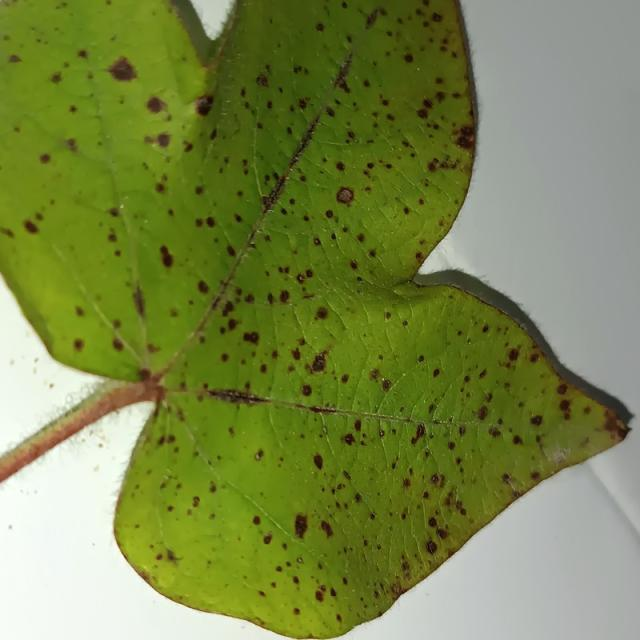Bacterial_Blight: (207, 387, 278, 406), (151, 240, 184, 269), (107, 56, 137, 83), (602, 411, 627, 439), (427, 153, 459, 174), (261, 186, 284, 213), (154, 568, 177, 589), (455, 127, 475, 151), (132, 287, 146, 316), (146, 96, 167, 115), (195, 95, 213, 115), (310, 353, 327, 373), (294, 514, 308, 538), (365, 8, 380, 29), (336, 188, 354, 204), (137, 367, 153, 383), (335, 76, 350, 93), (242, 331, 259, 345), (320, 520, 333, 538), (414, 423, 426, 441), (23, 220, 38, 234), (157, 133, 171, 148), (165, 548, 180, 562), (476, 405, 489, 421), (222, 300, 234, 317), (430, 473, 444, 487), (315, 306, 329, 319), (529, 414, 543, 427), (459, 125, 474, 137), (313, 454, 323, 471), (256, 74, 269, 87), (64, 138, 77, 151), (197, 280, 209, 294), (427, 158, 439, 172), (391, 583, 403, 597), (29, 444, 40, 459), (343, 433, 355, 446), (556, 383, 568, 396), (558, 399, 571, 411), (112, 337, 124, 350), (488, 426, 501, 438), (73, 338, 84, 352), (227, 317, 238, 331), (426, 540, 437, 554), (50, 72, 62, 84), (436, 528, 448, 540), (301, 384, 312, 397), (508, 348, 519, 361), (279, 290, 290, 303), (39, 153, 51, 164), (381, 379, 392, 391), (108, 207, 120, 218), (422, 98, 434, 109), (1, 227, 13, 238), (291, 348, 301, 361), (417, 108, 428, 119), (205, 216, 215, 228), (263, 533, 273, 545), (369, 369, 379, 381), (183, 141, 193, 153), (8, 54, 21, 63), (107, 232, 117, 243), (155, 182, 165, 193), (512, 435, 523, 445), (226, 245, 236, 256), (298, 98, 308, 109), (325, 106, 335, 117), (431, 12, 442, 22), (77, 49, 88, 59), (530, 471, 541, 481), (580, 437, 590, 448), (315, 590, 324, 602), (353, 419, 362, 431), (335, 161, 345, 171), (404, 53, 414, 63), (255, 449, 264, 460), (75, 306, 84, 317), (341, 373, 350, 384), (195, 185, 204, 196), (428, 517, 437, 528), (234, 213, 243, 224), (349, 260, 358, 270), (356, 233, 365, 243), (220, 352, 229, 362), (315, 22, 324, 32), (69, 104, 78, 114), (342, 470, 351, 480), (502, 473, 511, 483), (296, 273, 305, 283), (192, 496, 200, 507), (459, 425, 466, 437), (325, 210, 334, 219), (253, 515, 261, 525), (448, 441, 456, 451), (403, 478, 411, 488), (417, 354, 425, 363), (482, 324, 490, 333), (354, 493, 362, 502), (313, 237, 321, 246), (330, 587, 337, 597), (292, 575, 299, 585), (248, 240, 256, 248), (433, 368, 440, 377), (385, 311, 392, 320), (403, 207, 410, 215), (156, 553, 163, 561), (258, 590, 266, 597), (293, 608, 300, 615), (296, 557, 303, 564), (33, 357, 39, 364), (9, 359, 15, 366), (32, 367, 37, 374), (98, 442, 103, 448), (49, 383, 54, 389), (8, 525, 12, 530)
Cotton: (0, 0, 630, 637)
